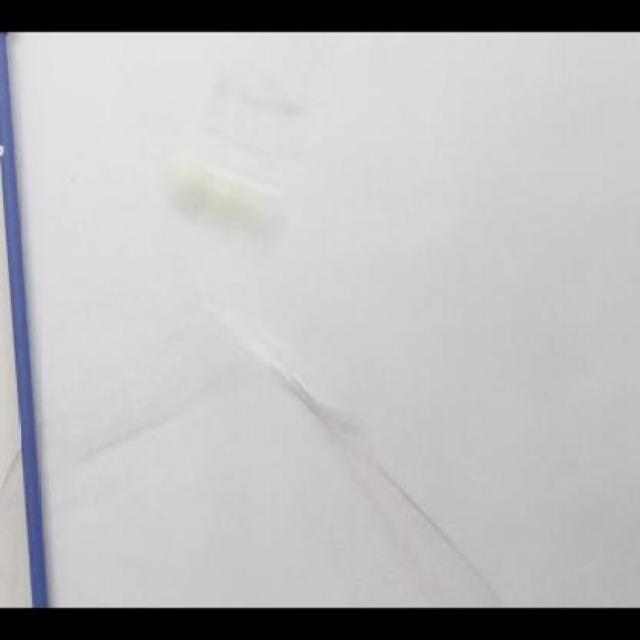baseball: (178, 154, 292, 248)
